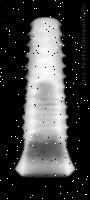Cowellmedi: (14, 16, 76, 178)
